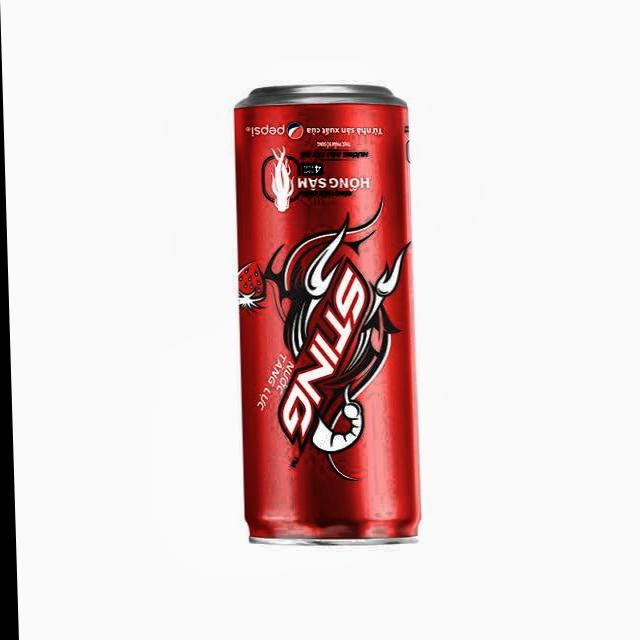can: (219, 76, 427, 554)
